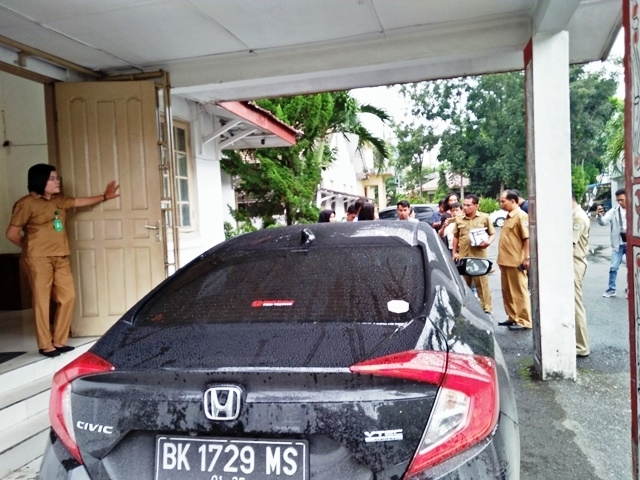plate: (155, 437, 306, 480)
